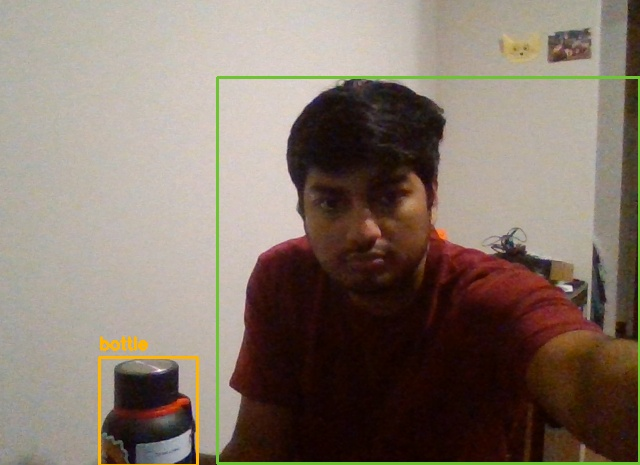bottle: (99, 357, 197, 465)
